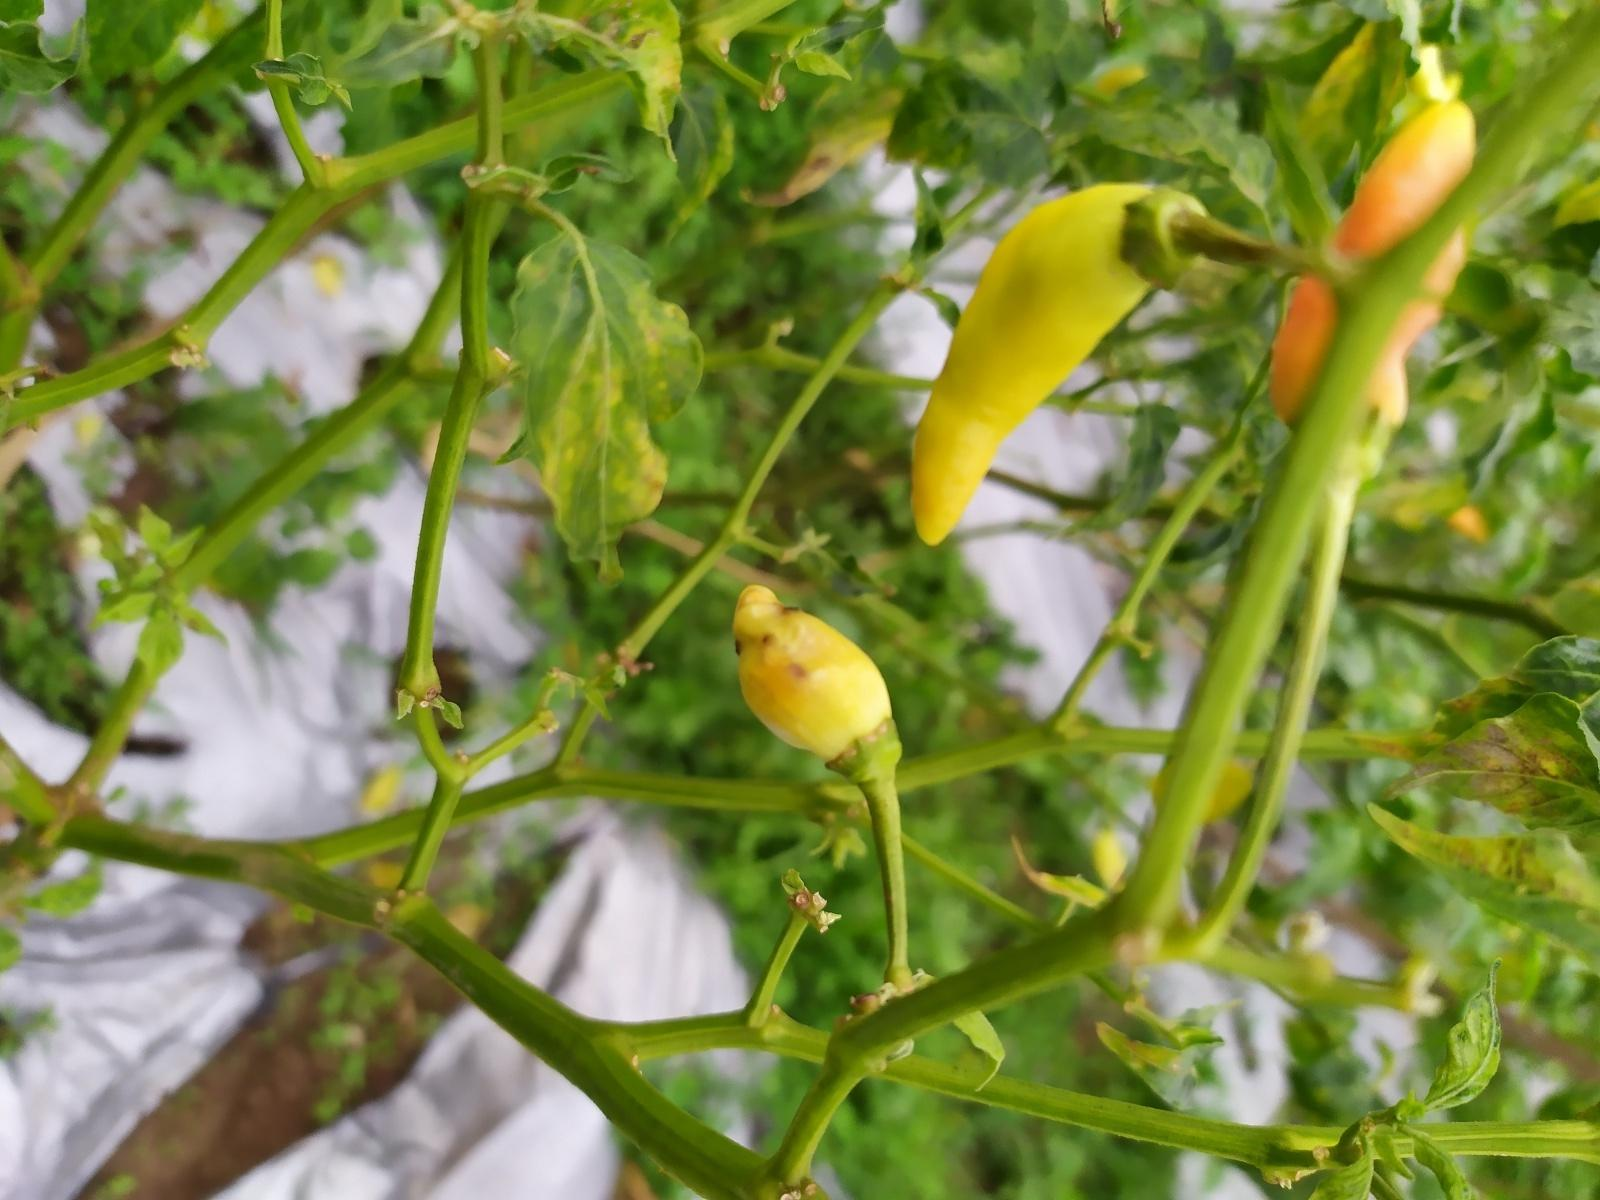cabai_normal: (910, 182, 1167, 550), (1274, 102, 1482, 436)
lalat_buah: (733, 584, 897, 769)
